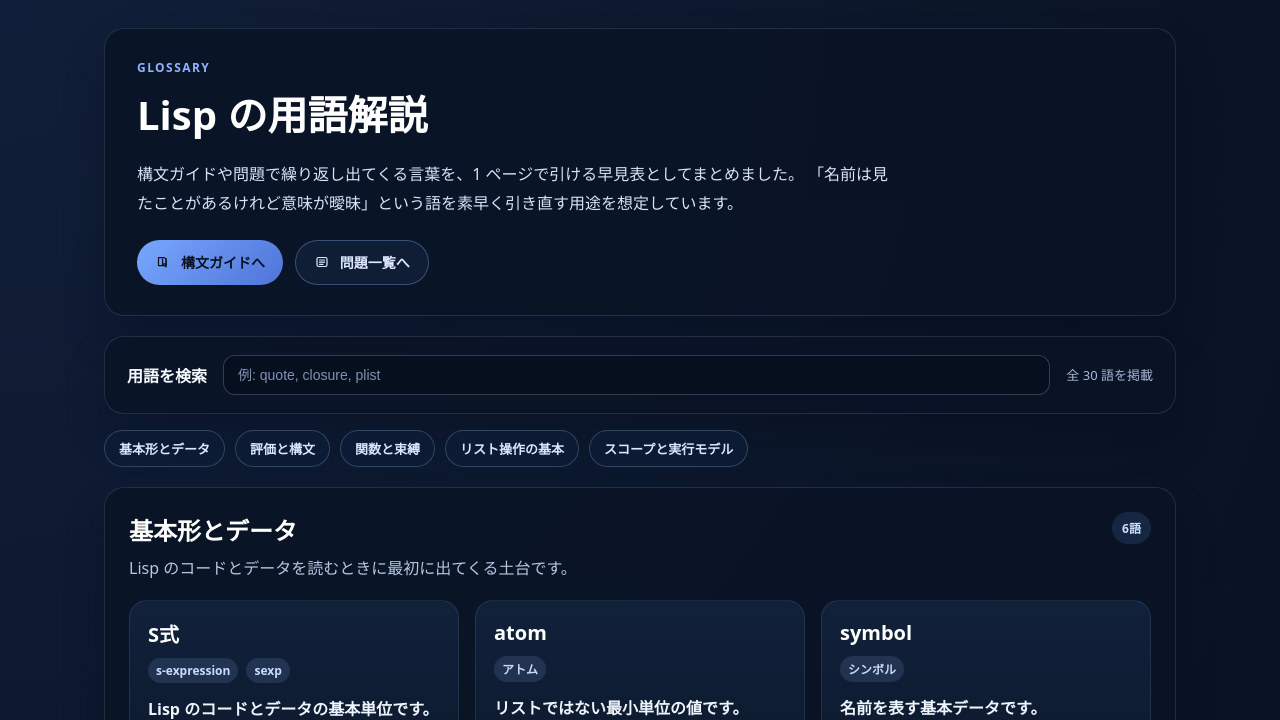
Test: GlossaryPage › 検索で用語を絞り込める
Type "funcall" into the search field labelled "用語を検索".
click(637, 375); type("funcall")  # box [223, 355, 1050, 395]
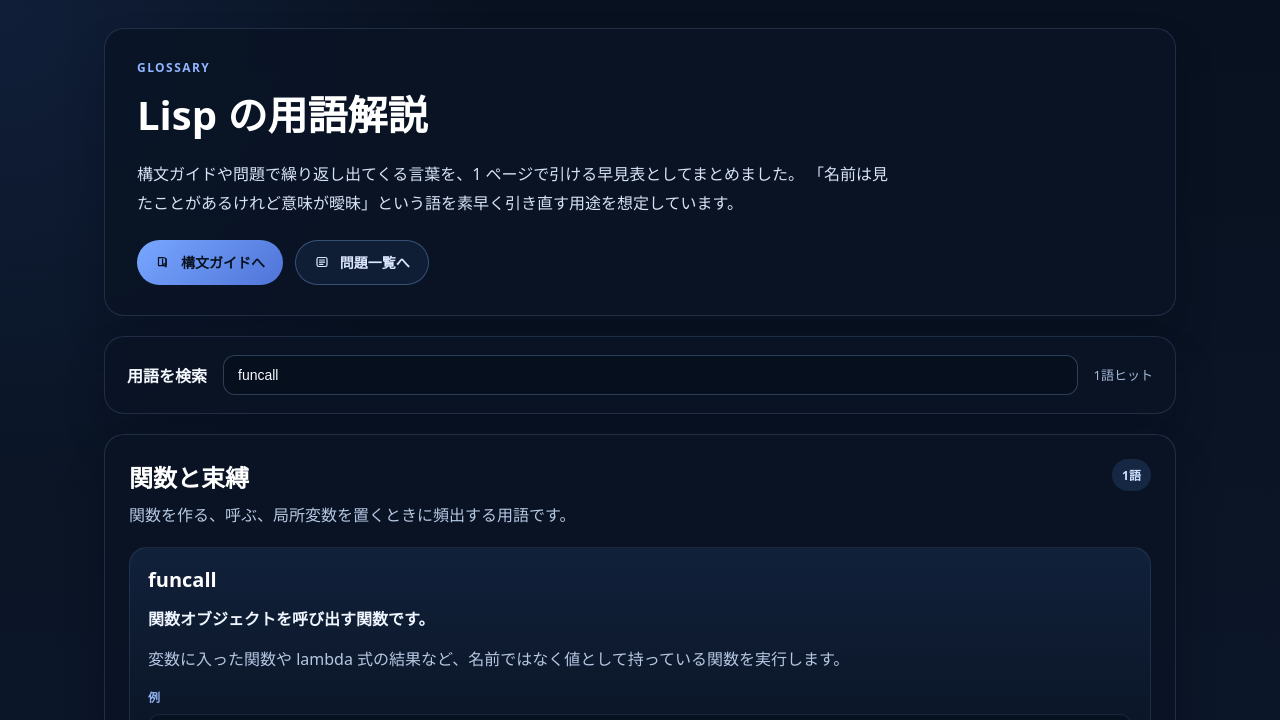
Expected: the heading "funcall" is shown, [148, 566, 217, 593]
Now the heading "S式" is gone
